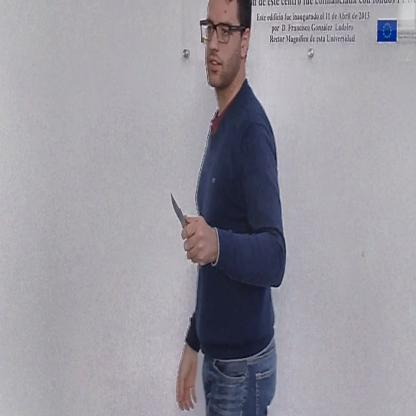knife: (164, 181, 200, 248)
